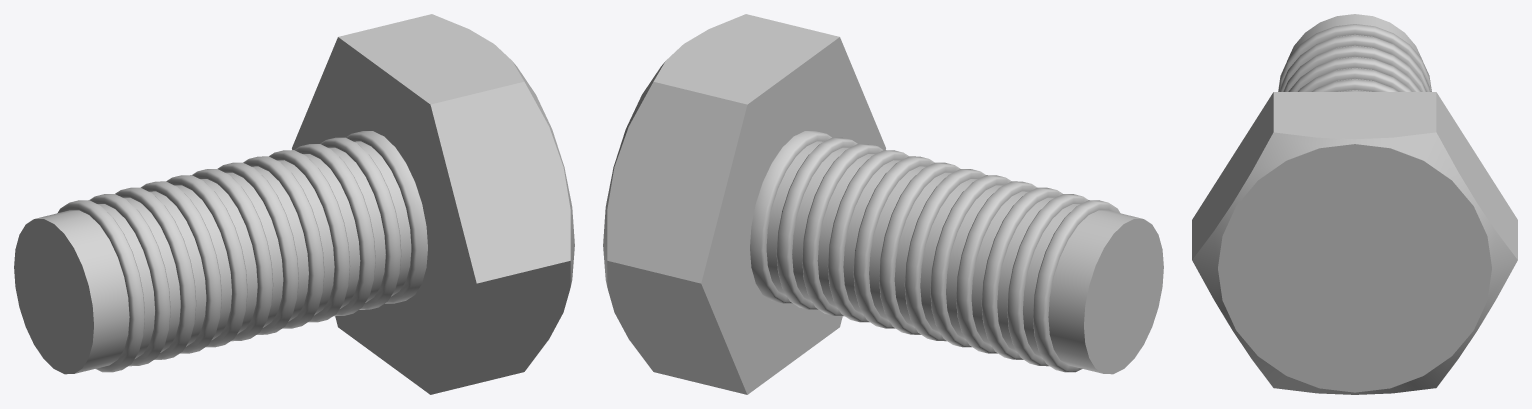
File: bolt.fbx
3 views of the same model, side by side, from view 1: azimuth 30°, elevation 25°; view 2: azimuth 150°, elevation 25°; view 3: azimuth 270°, elevation 25° (orthographic). The views are drawn at different scales.
Parts seen in each view (by area): view 1: bolt; view 2: bolt; view 3: bolt.
Boxes of the visible parts, x1,y1,x2,y2 form: bolt: [14, 14, 574, 394]; bolt: [603, 14, 1163, 394]; bolt: [1192, 14, 1517, 394].
Size of the model in its own units: 6.83 by 4.28 by 4.94.
